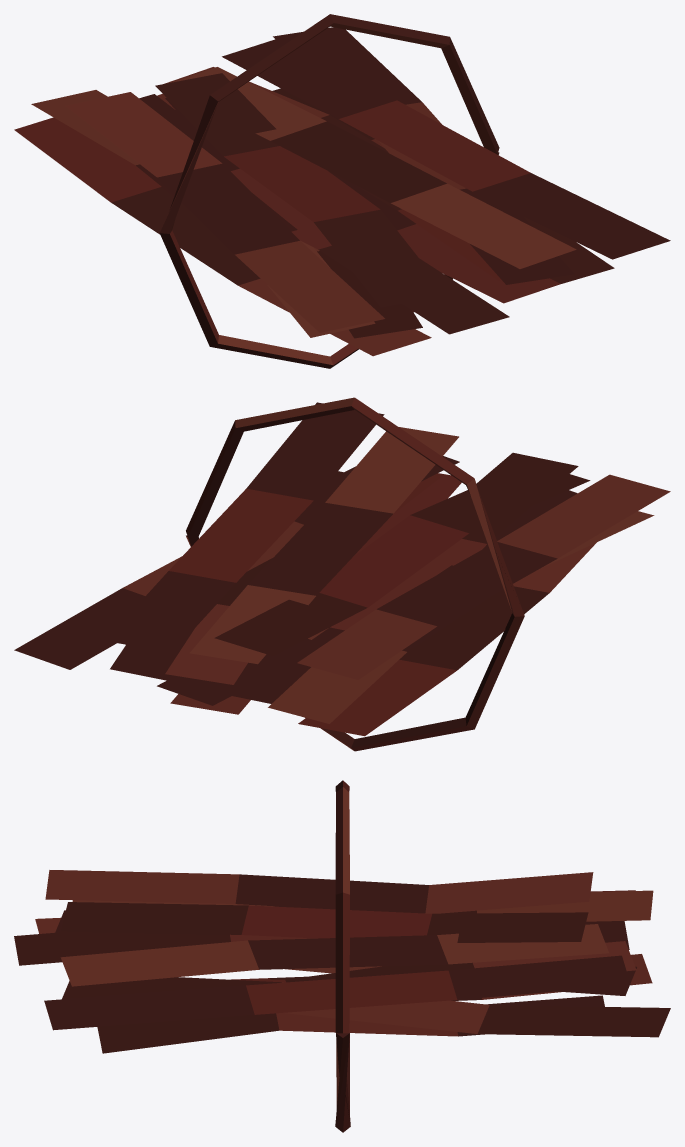
File: storage_dried_meat.glb
3 views of the same model, one above another, from view 1: azimuth 30°, elevation 25°; view 2: azimuth 150°, elevation 25°; view 3: azimuth 270°, elevation 25° (orthographic). The views are drawn at different scales.
Visible parts, largest first — view 1: storage_dried_meat; view 2: storage_dried_meat; view 3: storage_dried_meat.
Boxes of the visible parts, x1,y1,x2,y2 form: storage_dried_meat: [14, 14, 670, 368]; storage_dried_meat: [14, 397, 670, 751]; storage_dried_meat: [14, 780, 670, 1132].
Size of the model in its own units: 0.7912 by 0.7456 by 1.31.
